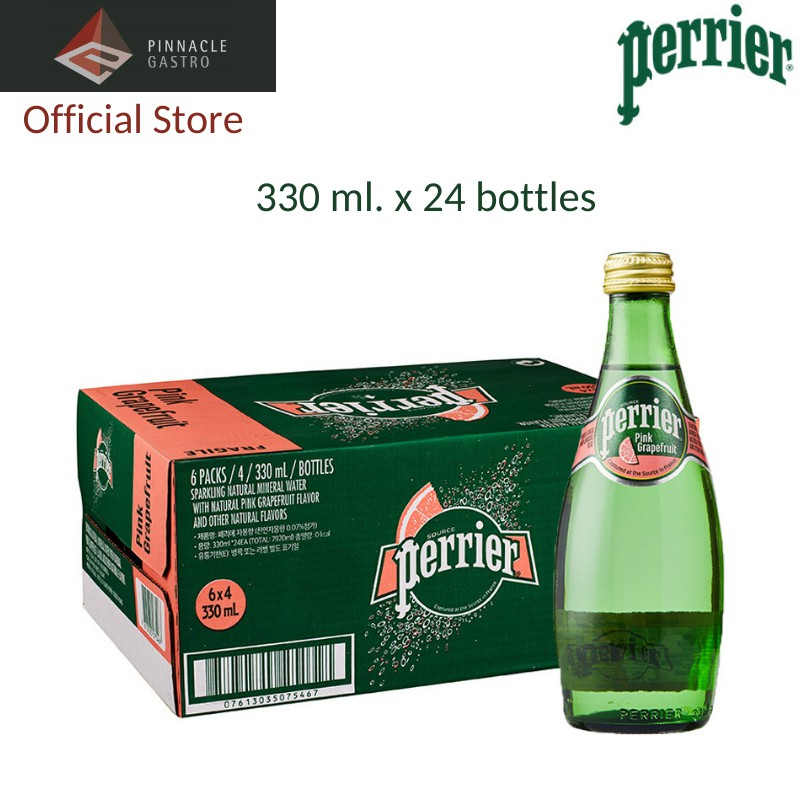glass_bottle: (549, 247, 731, 736)
